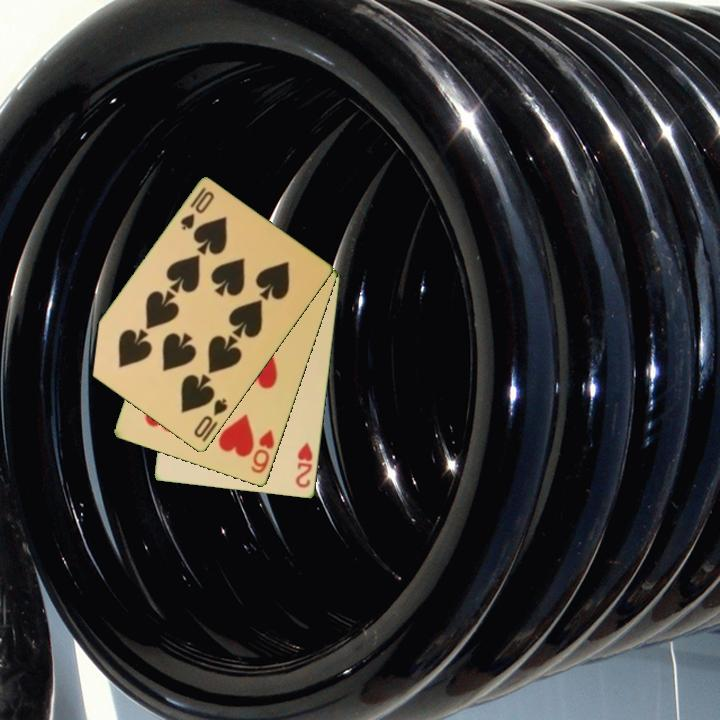10s: (177, 184, 217, 234), (190, 395, 231, 441)
2h: (293, 438, 316, 491)
6h: (247, 427, 278, 477)
